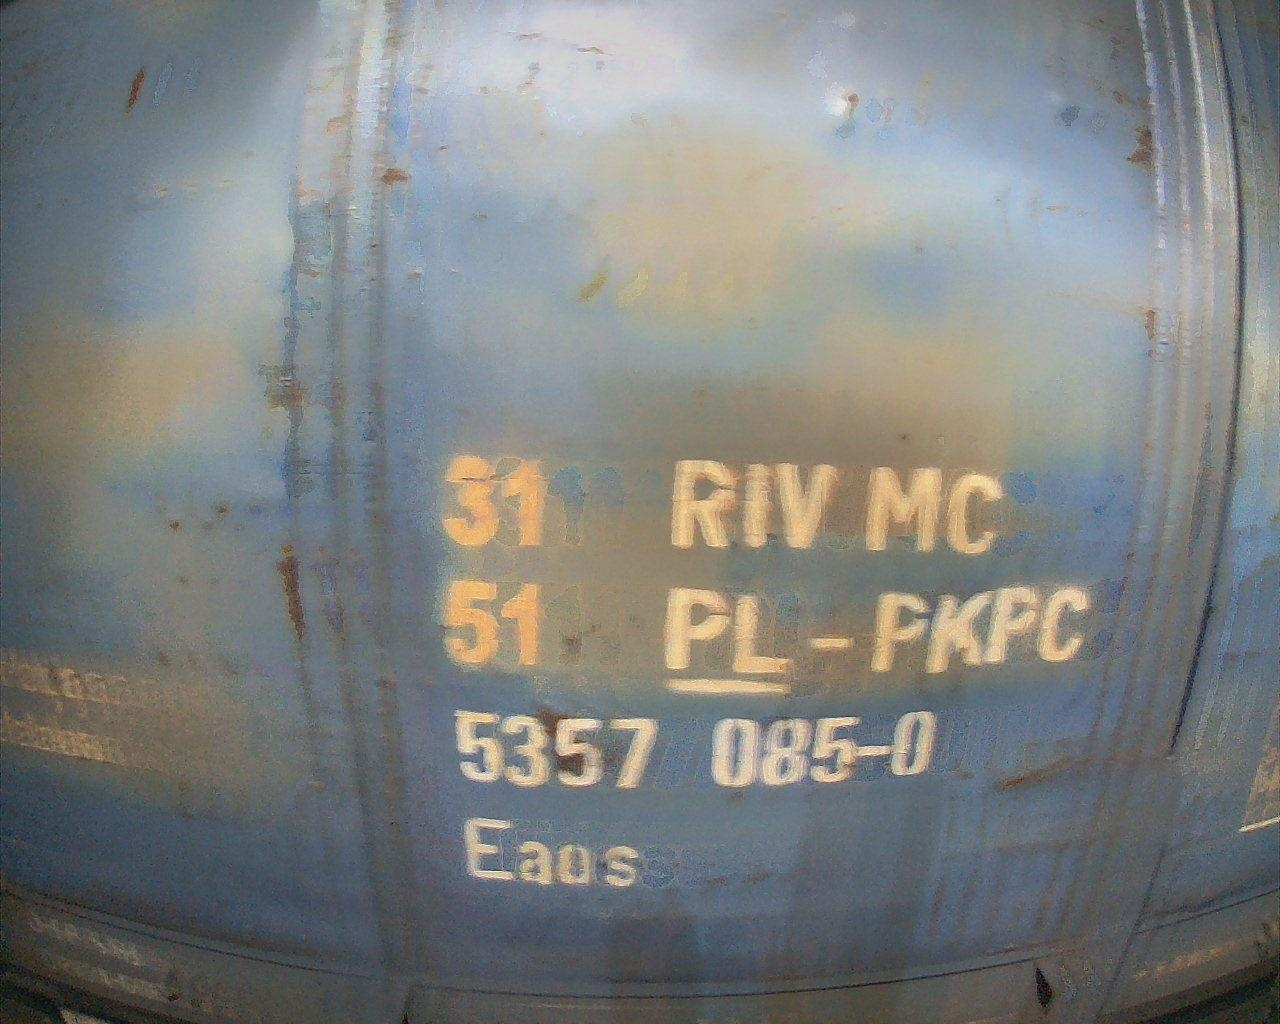UIC: (433, 445, 1103, 902)
